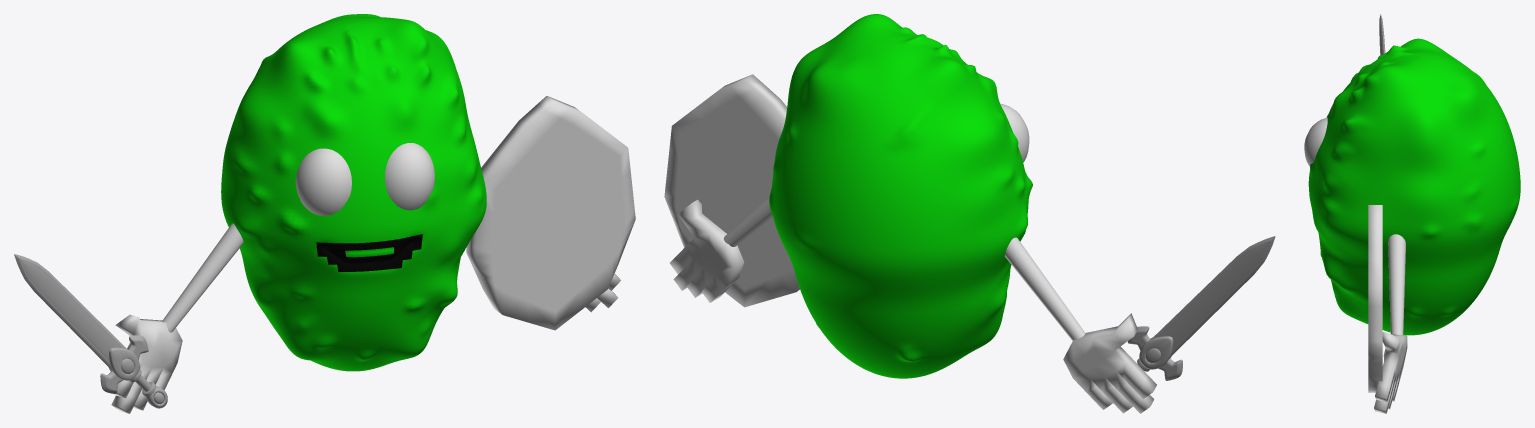
The model's file is wbc3.fbx.
3 views of the same model, side by side, from view 1: azimuth 30°, elevation 25°; view 2: azimuth 150°, elevation 25°; view 3: azimuth 270°, elevation 25° (orthographic). The views are drawn at different scales.
Parts seen in each view (by area): view 1: cell, shield, polySurface2, polySurface10, pSphere3, pSphere2, polySurface1, polySurface16; view 2: cell, shield, polySurface2, polySurface4, polySurface10, polySurface1, polySurface3, polySurface16, pSphere3; view 3: cell, shield, polySurface4, polySurface3, pSphere2.
Boxes of the visible parts, left/top/right/bottom form: cell: left=221, top=14, right=486, bottom=371; shield: left=466, top=96, right=635, bottom=330; polySurface2: left=111, top=314, right=182, bottom=413; polySurface10: left=14, top=254, right=126, bottom=369; pSphere3: left=295, top=148, right=351, bottom=215; pSphere2: left=385, top=143, right=434, bottom=210; polySurface1: left=162, top=223, right=243, bottom=332; polySurface16: left=108, top=347, right=139, bottom=380; cell: left=769, top=14, right=1032, bottom=378; shield: left=664, top=74, right=799, bottom=307; polySurface2: left=1063, top=313, right=1156, bottom=413; polySurface4: left=669, top=199, right=744, bottom=302; polySurface10: left=1152, top=236, right=1275, bottom=356; polySurface1: left=1005, top=237, right=1085, bottom=340; polySurface3: left=723, top=196, right=772, bottom=246; polySurface16: left=1139, top=336, right=1173, bottom=369; pSphere3: left=1000, top=103, right=1029, bottom=162; cell: left=1308, top=38, right=1520, bottom=335; shield: left=1368, top=205, right=1382, bottom=392; polySurface4: left=1374, top=332, right=1407, bottom=413; polySurface3: left=1388, top=234, right=1405, bottom=335; pSphere2: left=1304, top=117, right=1327, bottom=166.
Bounding box in the file's own units: 5.36 × 2.82 × 1.99.
